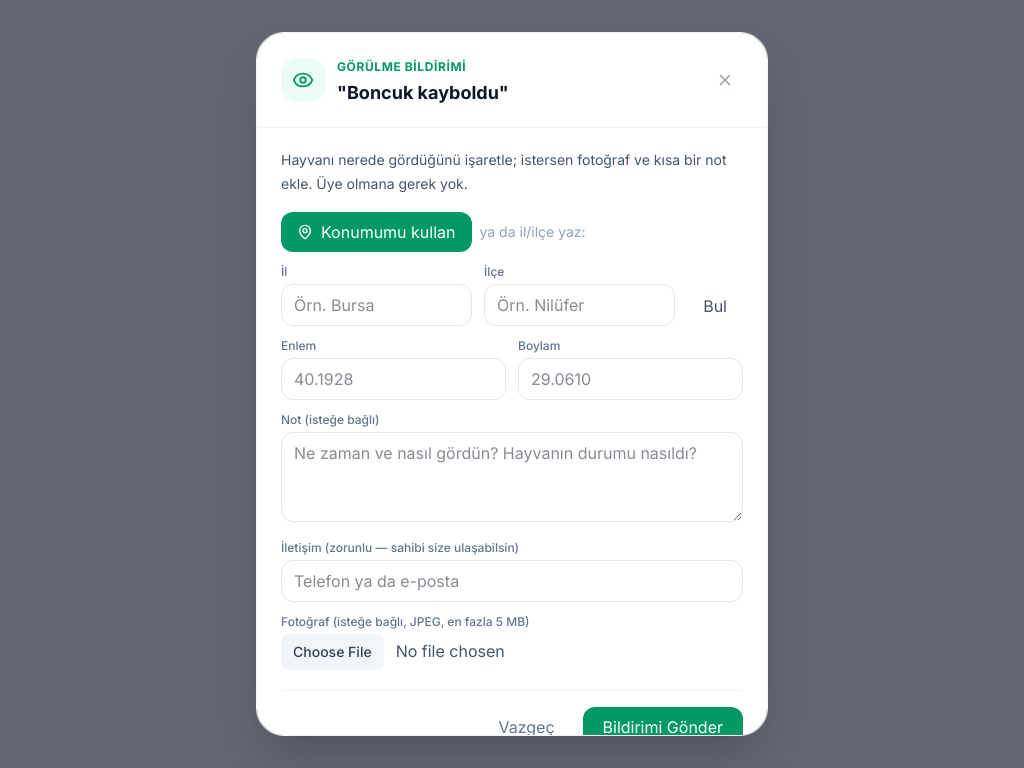
Scenario: SightingModal › il/ilçeden Bul koordinat alanlarını doldurur
Type "Bursa" into the field labelled "İl". click: [377, 305]
box: x1=281 y1=284 x2=472 y2=326
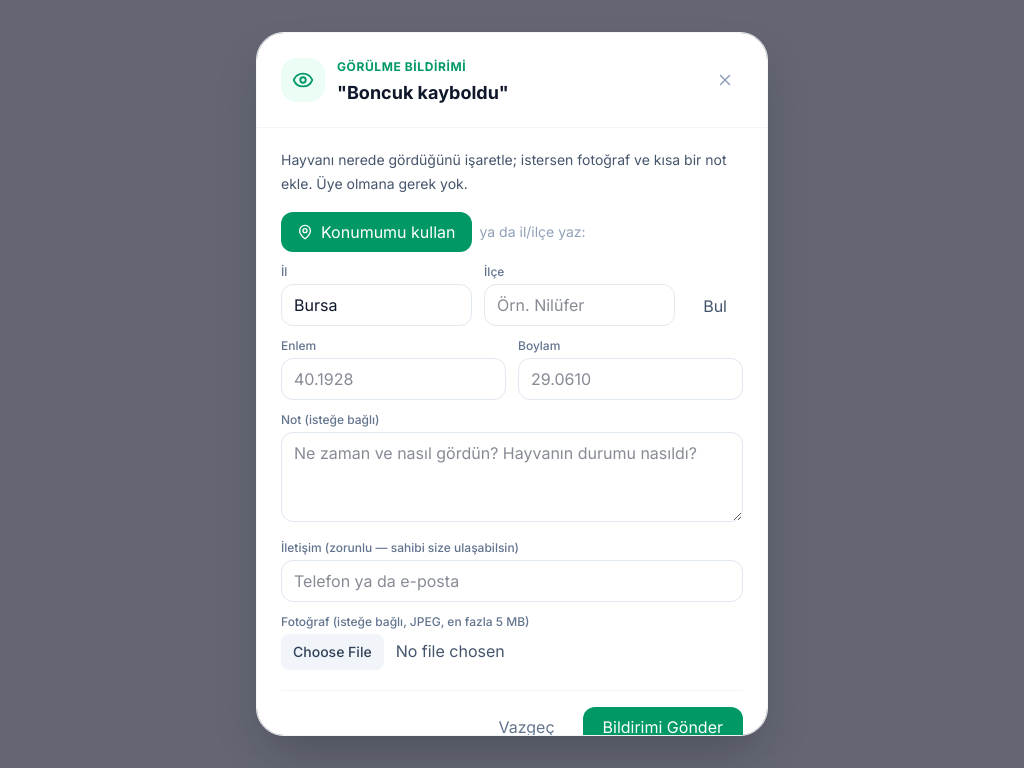
Type "Nilüfer" into the field labelled "İlçe". click: [580, 305]
box: x1=484 y1=284 x2=675 y2=326
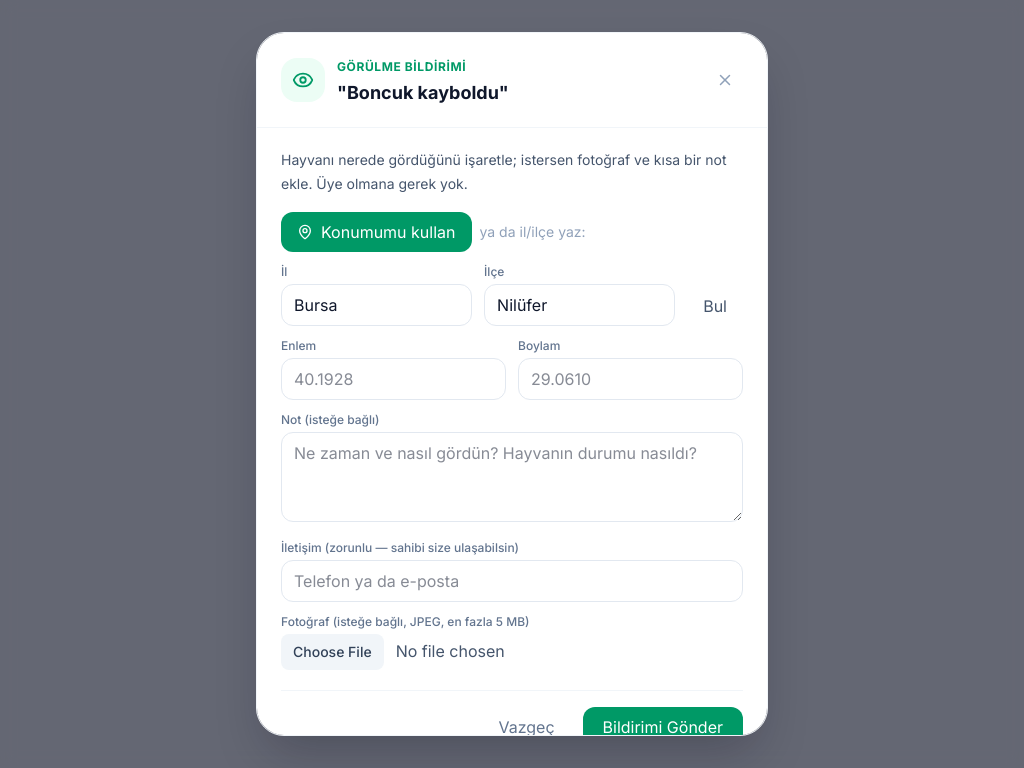
Click the button "Bul". click: [715, 306]
box: x1=687 y1=286 x2=743 y2=326
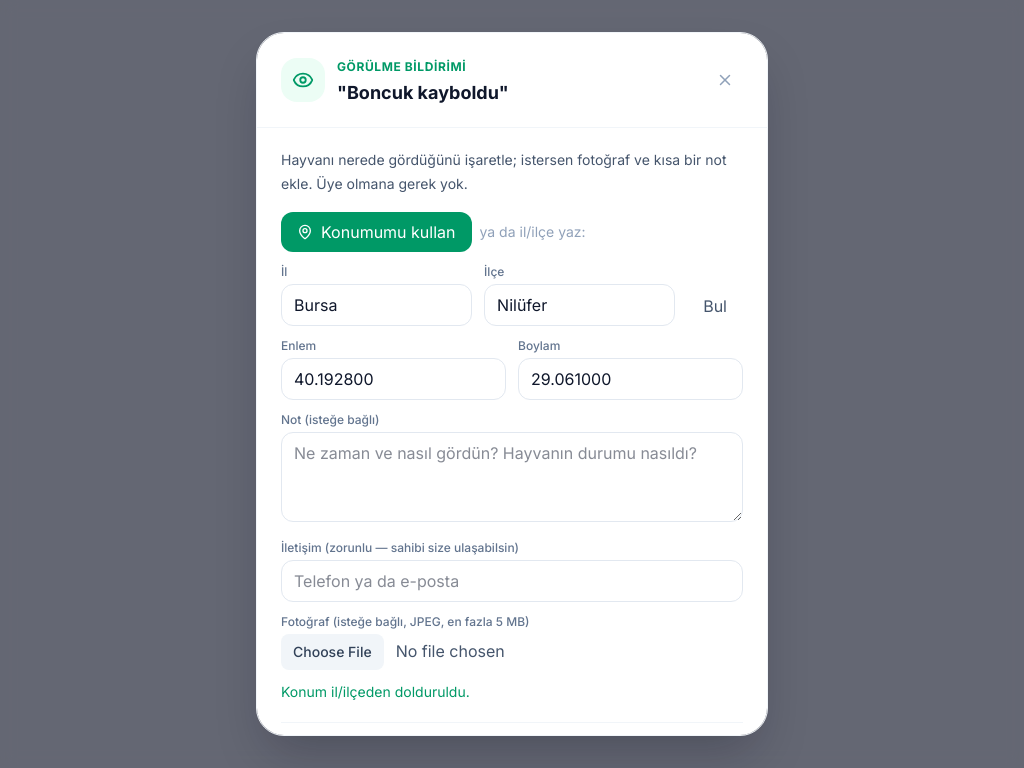
Now the field labelled "Enlem" holds "40.192800", box x1=281 y1=358 x2=506 y2=400
Now the field labelled "Boylam" holds "29.061000", box x1=518 y1=358 x2=743 y2=400
